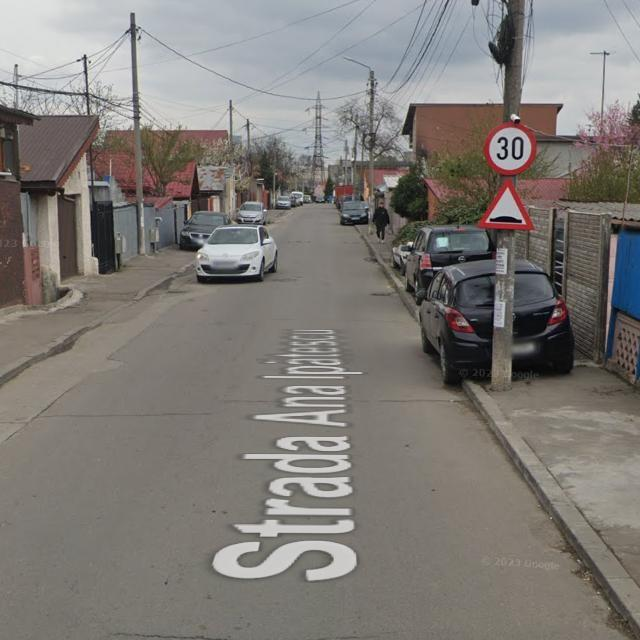forb_speed_over_30: (487, 122, 535, 176)
